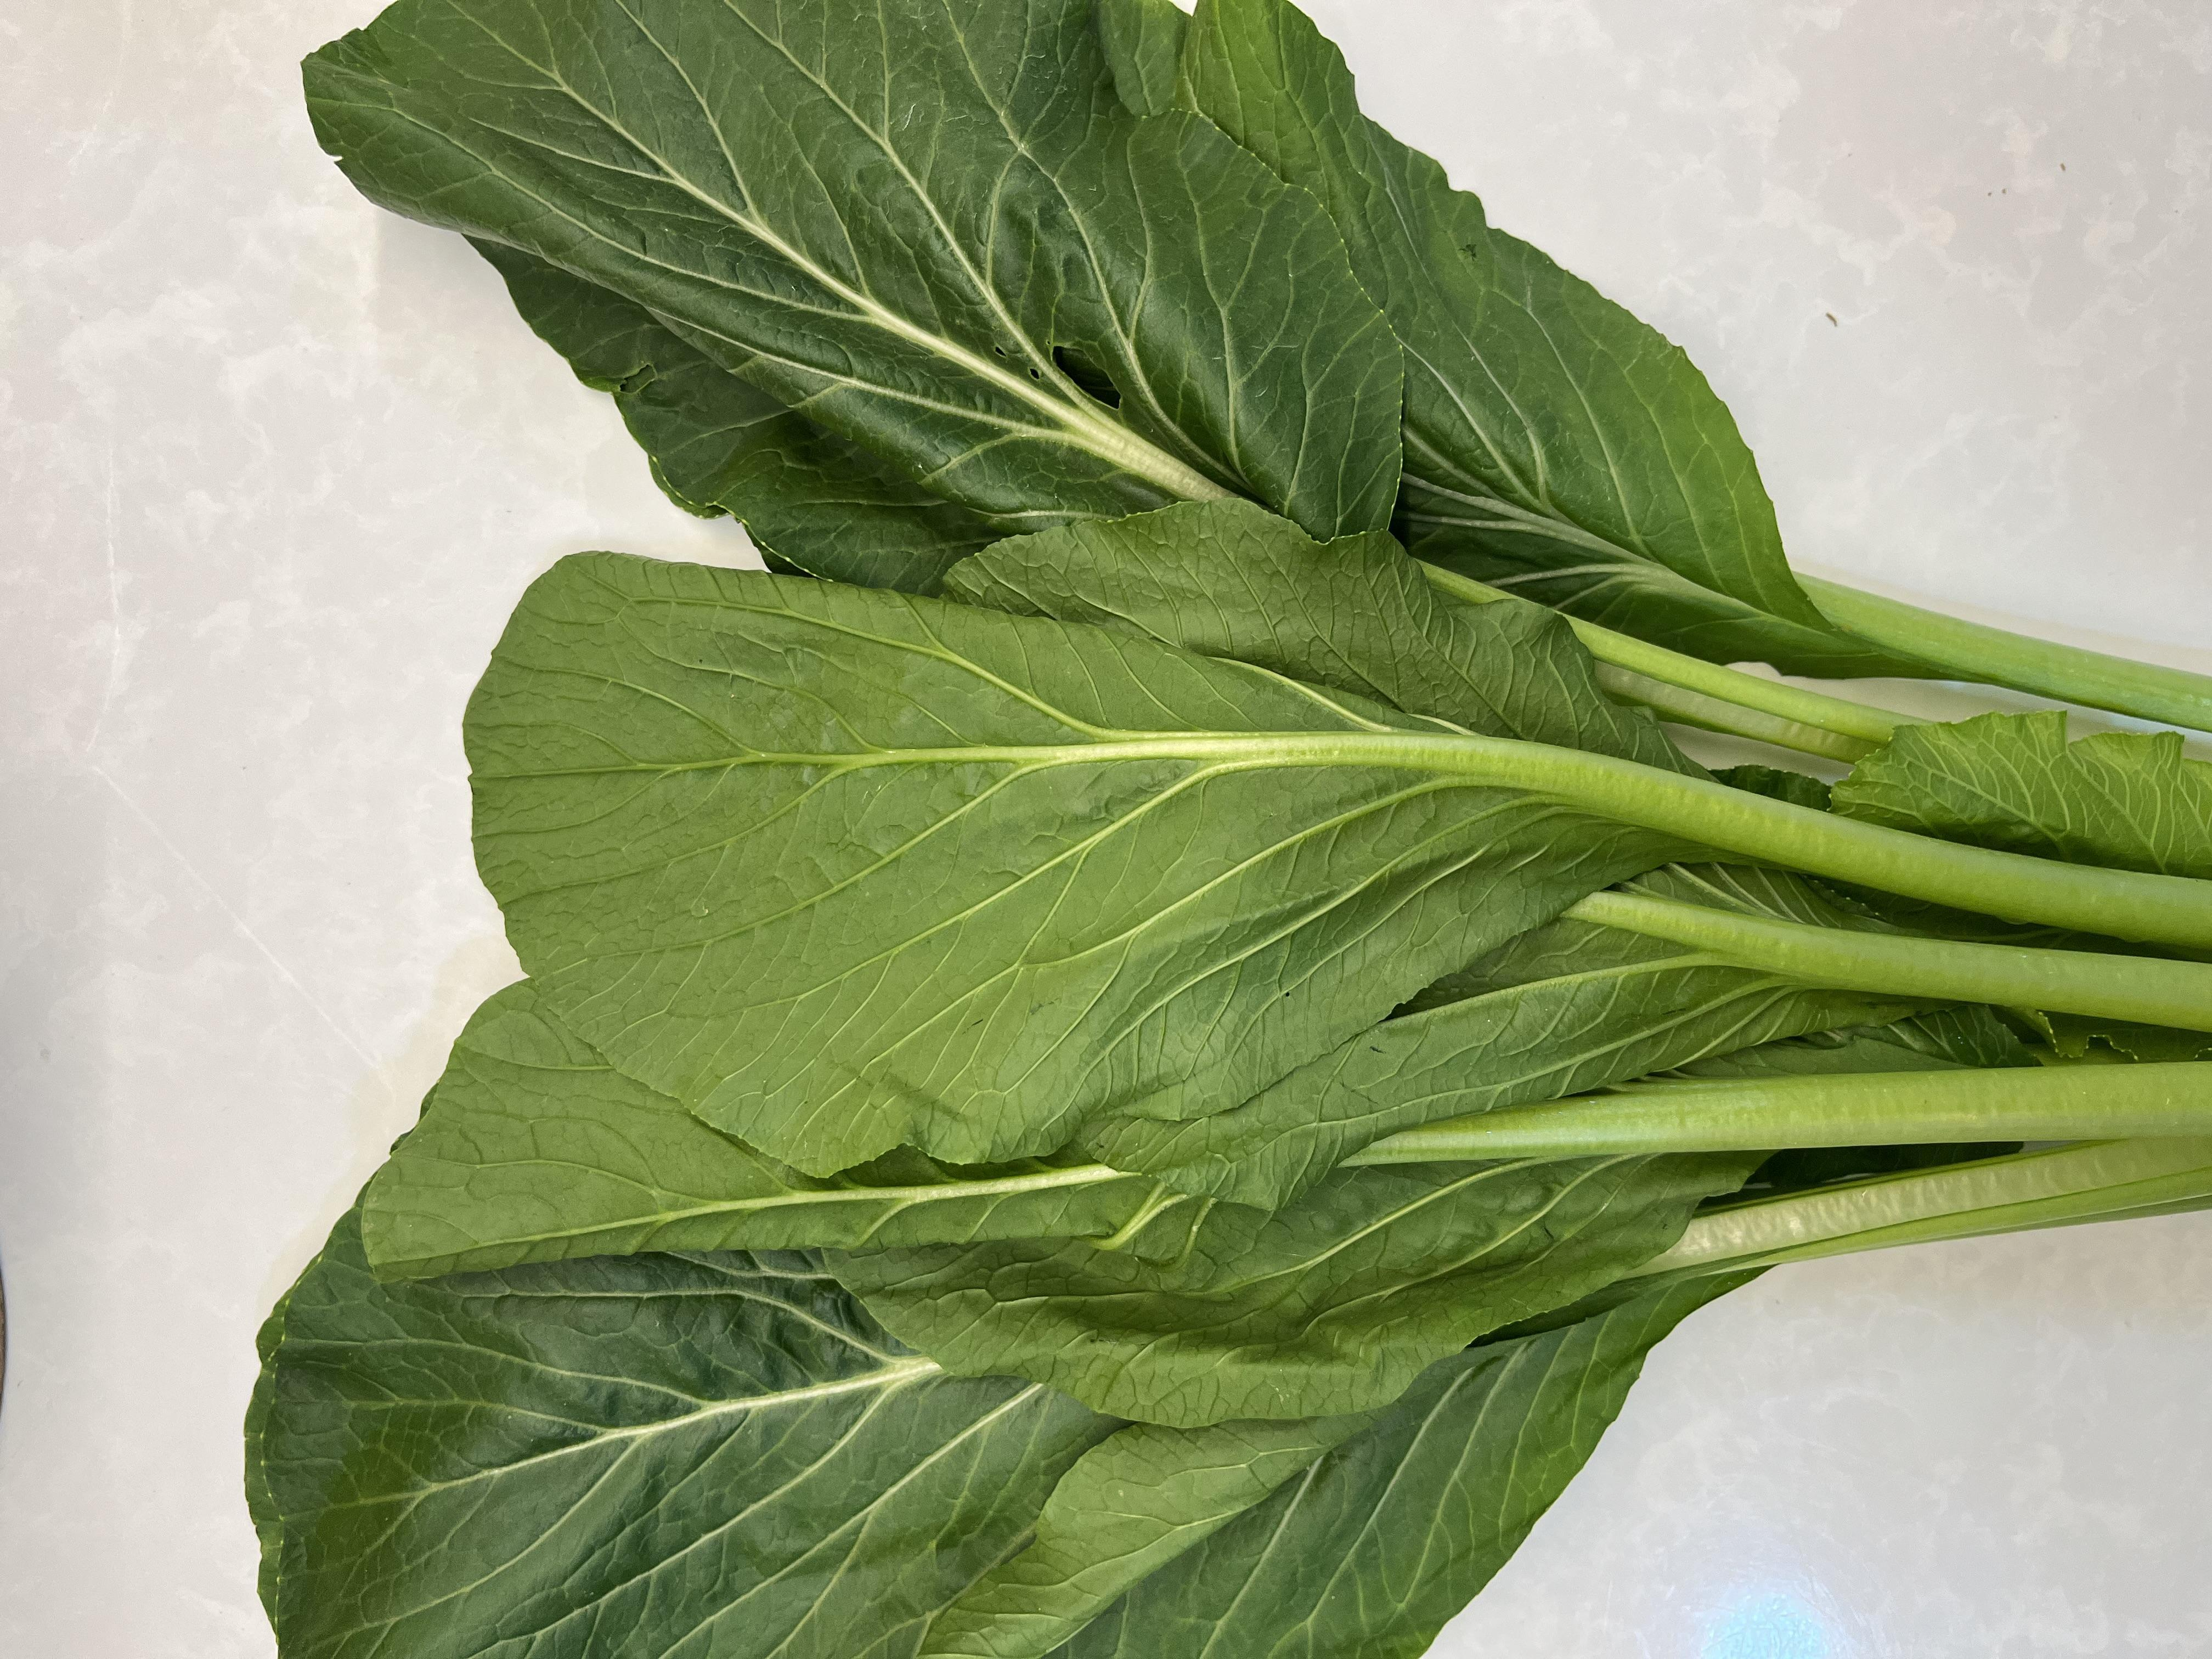Healthy-Pechay: (197, 28, 1932, 1448)
